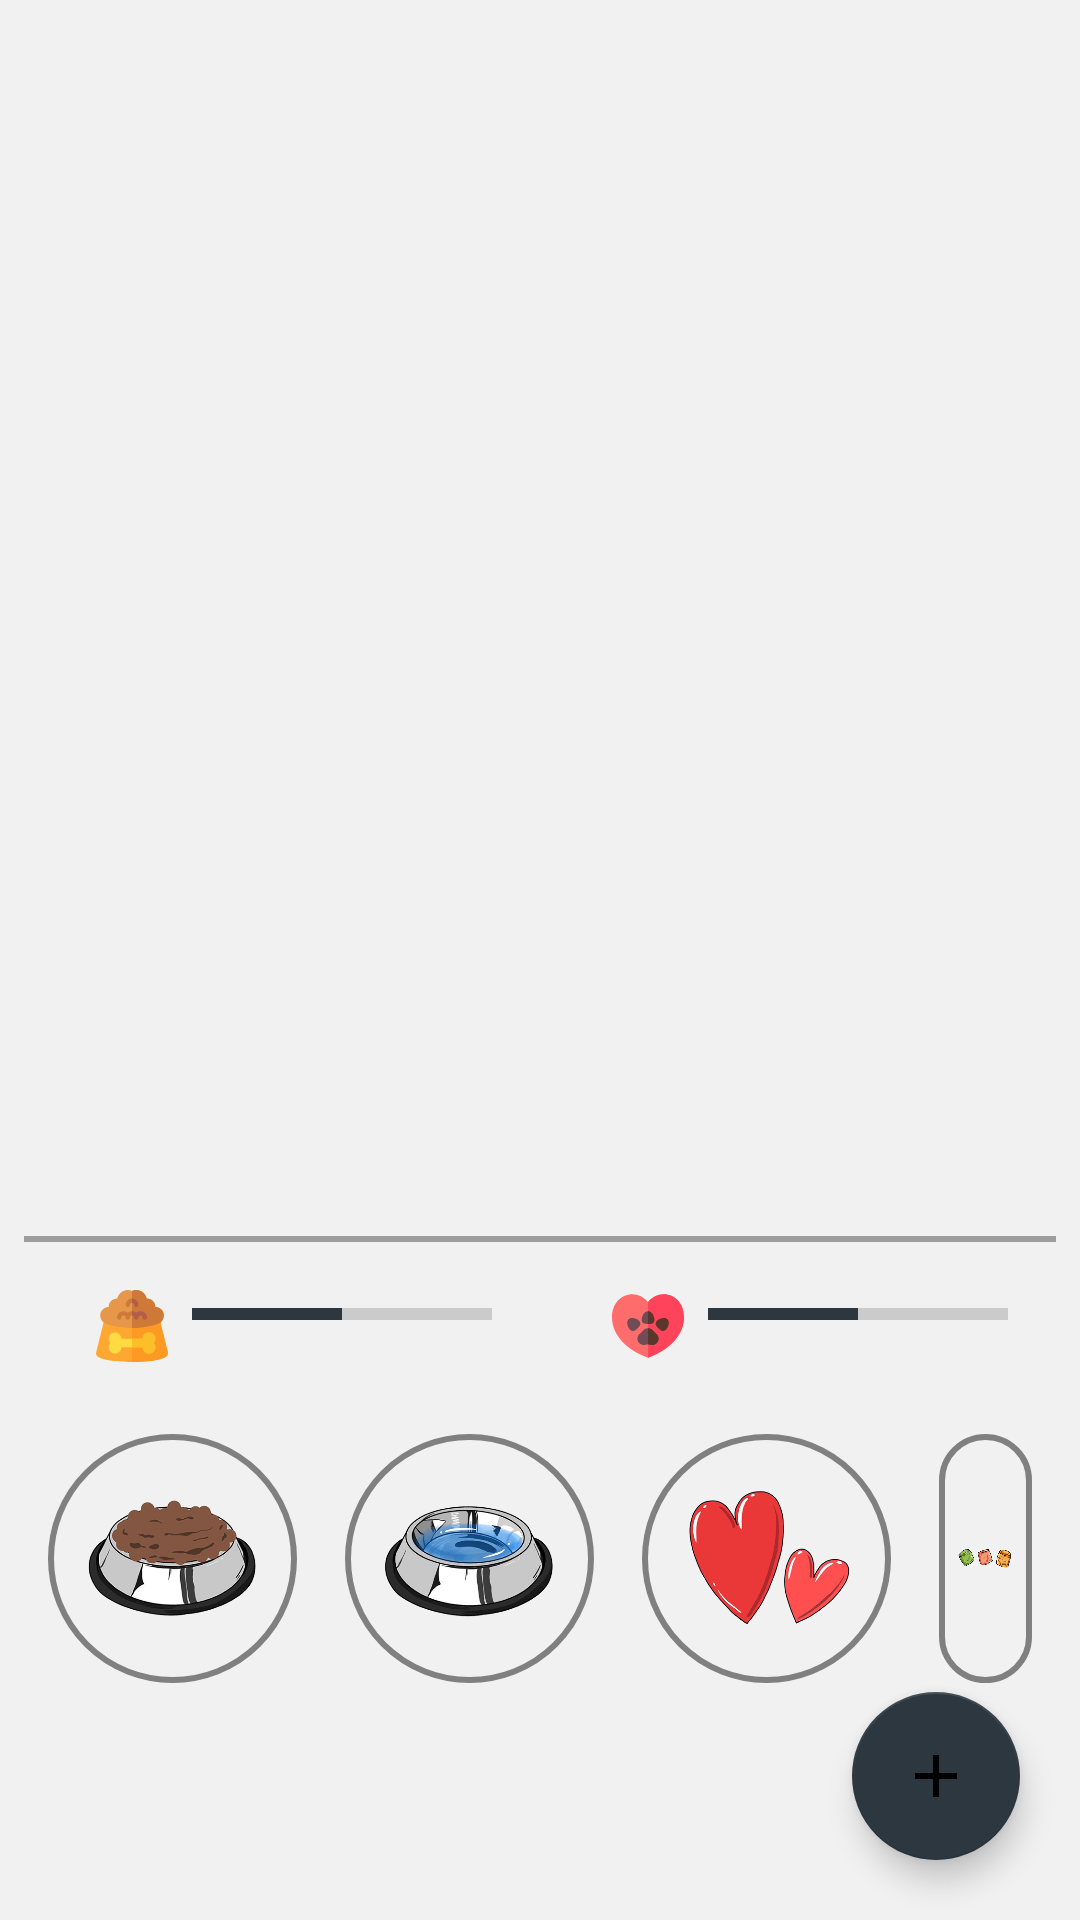

Named icons in this screenshot (1080×1920) and their centers, point (x, y):
add: point (936, 1776)
love: point (766, 1558)
meal: point (172, 1558)
snack: point (985, 1558)
water: point (469, 1558)
